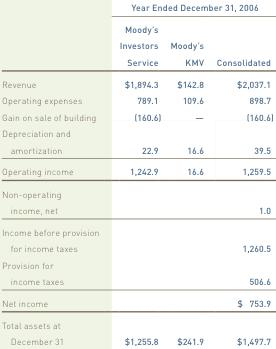table: (0, 1, 272, 346)
table column: (0, 1, 108, 346), (209, 1, 272, 346), (108, 1, 164, 346), (164, 1, 209, 346)
table column header: (0, 1, 272, 72)
table row: (0, 17, 272, 72), (0, 182, 272, 220), (0, 124, 272, 160), (0, 220, 272, 256), (0, 256, 272, 291), (0, 313, 272, 346), (0, 160, 272, 182), (0, 291, 272, 313), (0, 72, 272, 91), (0, 91, 272, 108), (0, 1, 272, 17), (0, 108, 272, 124)
table spanning cell: (108, 1, 272, 17)
